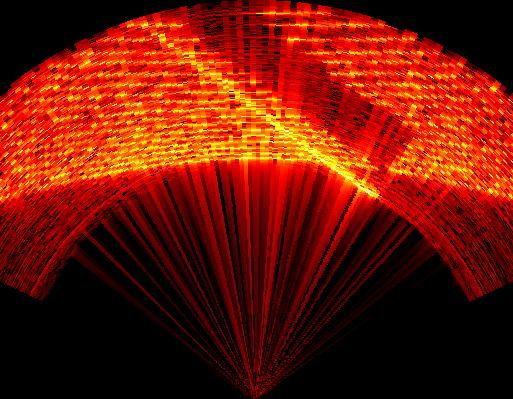pipe: (136, 6, 424, 202)
